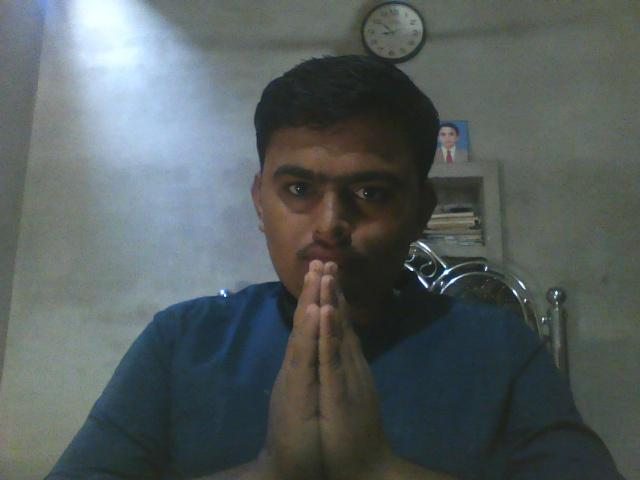Please: (236, 248, 384, 480)
